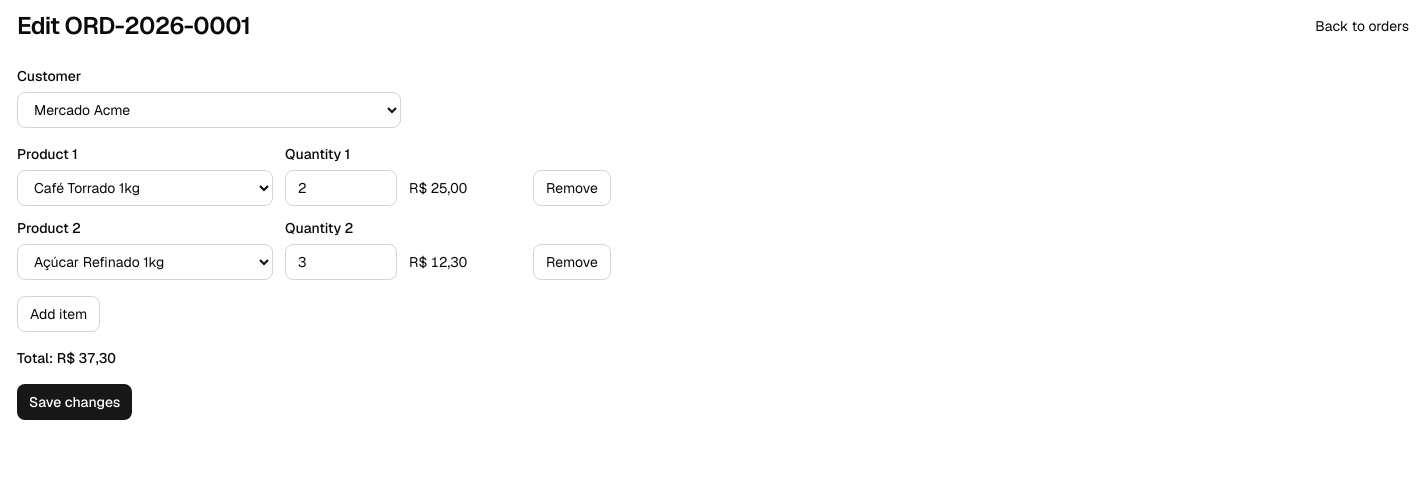
Scenario: orders panel › a draft confirmed in another tab shows the server's sentence inline
expect the number field labelled "Quantity 1" is shown: met, box [285, 170, 397, 206]
What coordinates should you click on to do the following:
click the button "Save changes"
I would click on:
 (75, 402)
Its box is [17, 384, 132, 420].
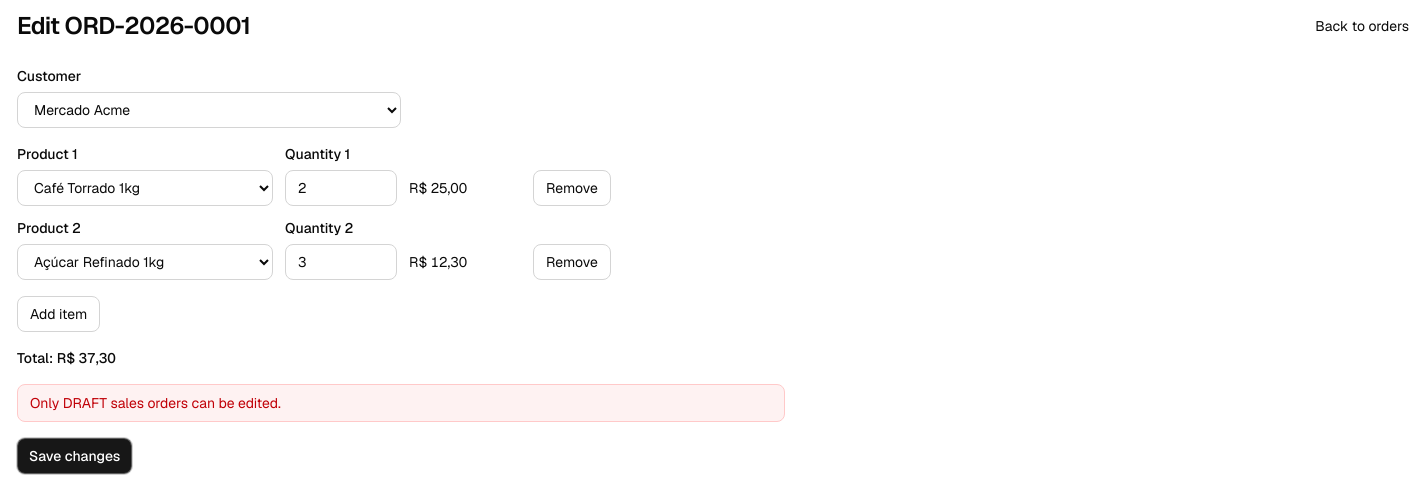
expect the text "Only DRAFT sales orders can be edited." is shown: met, box [17, 384, 785, 422]
